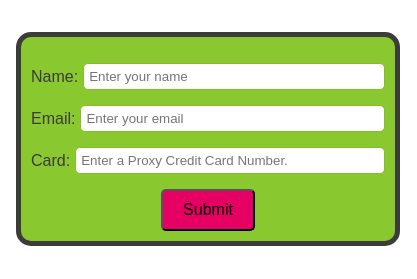
FormComponent › displays error message for invalid name input
Type "John123" into the field labelled "Name:" at (234, 76), box x1=83 y1=63 x2=385 y2=90
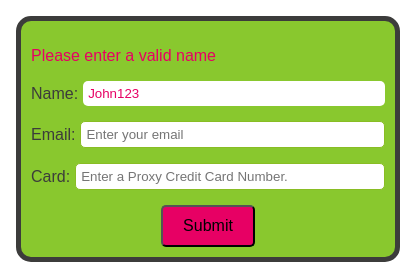
Expected: the list item "Please enter a valid name" is shown, x1=31 y1=47 x2=216 y2=64
